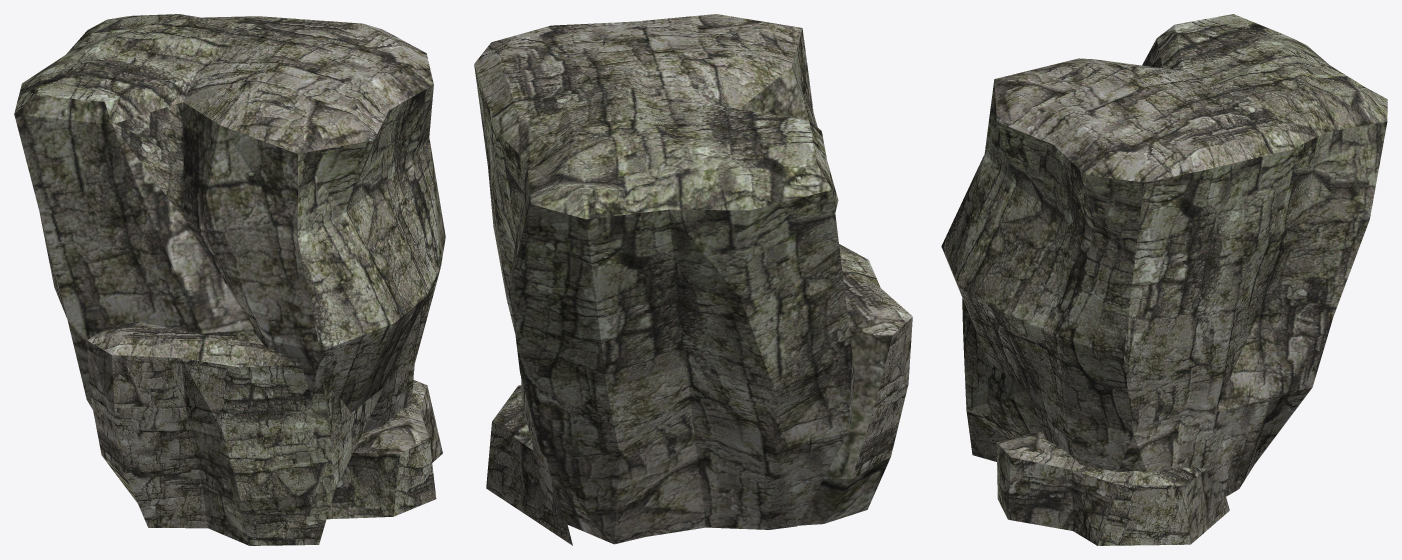
The model's file is mine_stonemine_granite_large.glb.
The picture shows the model from 3 angles, left to right: view 1: azimuth 30°, elevation 25°; view 2: azimuth 150°, elevation 25°; view 3: azimuth 270°, elevation 25°; orthographic projection. The views are drawn at different scales.
Parts seen in each view (by area): view 1: mine_stonemine_granite_large_part0; view 2: mine_stonemine_granite_large_part0; view 3: mine_stonemine_granite_large_part0.
Boxes of the visible parts, bbox=[...] form: mine_stonemine_granite_large_part0: bbox=[14, 14, 445, 545]; mine_stonemine_granite_large_part0: bbox=[474, 14, 912, 545]; mine_stonemine_granite_large_part0: bbox=[941, 14, 1387, 545].
Bounding box in the file's own units: 2.99 × 3.28 × 3.23.
Materials: 1 (1 with a texture image).
